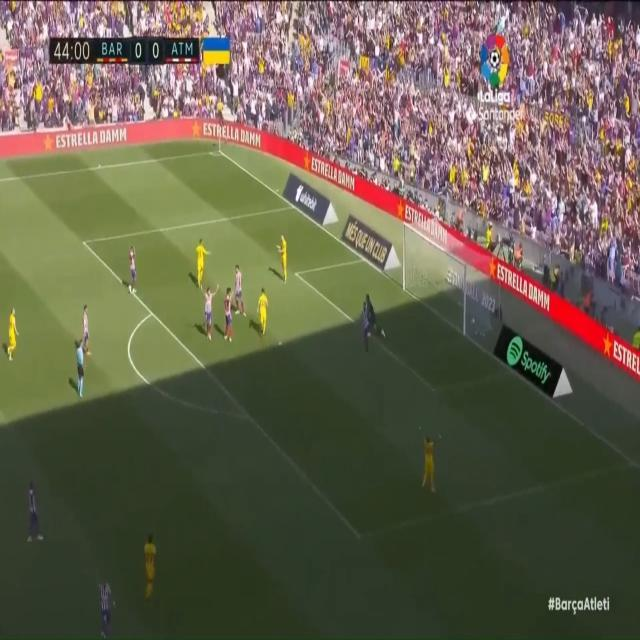ball: (468, 313, 477, 332)
goalkeeper: (364, 293, 385, 347)
player: (417, 424, 446, 496), (139, 527, 162, 602), (96, 573, 119, 639), (201, 284, 222, 349), (217, 283, 239, 345), (23, 477, 42, 546), (4, 302, 23, 360), (191, 234, 212, 286), (277, 234, 298, 284), (128, 236, 141, 307), (231, 260, 245, 324), (249, 289, 270, 331), (81, 301, 93, 363), (360, 303, 372, 355)
referee: (73, 334, 92, 402)
